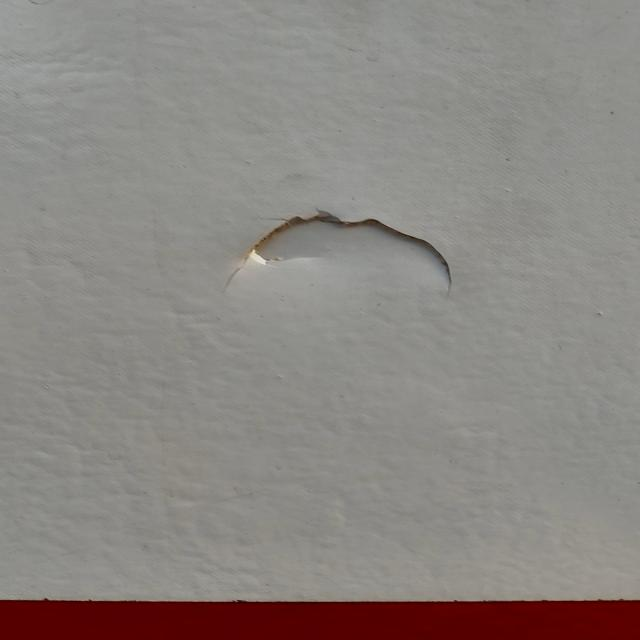Scratches: (214, 193, 474, 305)
